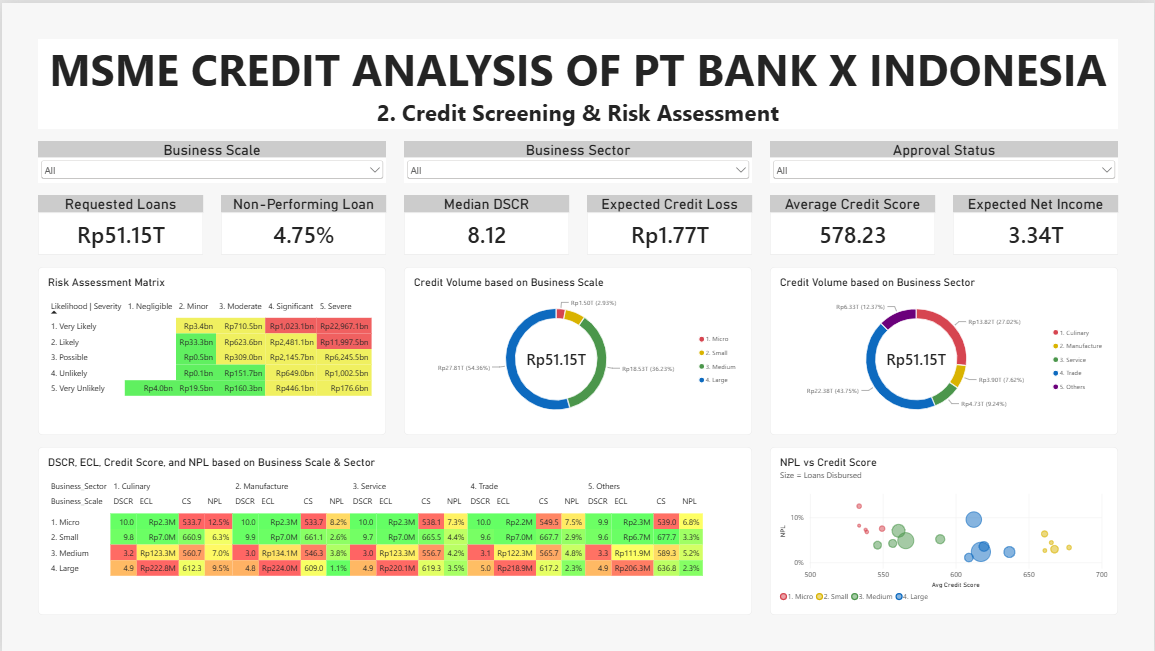

The page's visual inventory and layout, read from the dashboard file:
{"tool":"powerbi","page":{"name":"Page 2","canvas":[1920,1080],"ordinal":1},"visuals":[{"type":"textbox","box":[60,60,1800,150],"z":0},{"type":"slicer","title":"Business Scale","fields":{"Values":["MSME_credit_data_analyzed.Business_Scale"]},"box":[60,230,580,70],"z":1000},{"type":"slicer","title":"Business Sector","fields":{"Values":["MSME_credit_data_analyzed.Business_Sector"]},"box":[670,230,580,70],"z":2000},{"type":"cardVisual","title":"Requested Loans","fields":{"Data":["Sum(msme_credit_analysis new_msme_credit_joined.Loan_Ceiling)"]},"box":[60,320,275,100],"z":4000},{"type":"cardVisual","title":"Expected Credit Loss","fields":{"Data":["Sum(msme_credit_analysis new_msme_credit_joined.Expected_Credit_Loss)"]},"box":[974.4,320.3,275,100],"z":5000},{"type":"cardVisual","title":"Average Credit Score","fields":{"Data":["Avg(msme_credit_analysis new_msme_credit_joined.Credit_Score)"]},"box":[1281,320.3,275,100],"z":6000},{"type":"cardVisual","title":"Median DSCR","fields":{"Data":["Median(msme_credit_analysis new_msme_credit_joined.Debt_Service_Coverage_Ratio)"]},"box":[670,320.3,275,100],"z":7000},{"type":"pivotTable","title":"Risk Assessment Matrix","fields":{"Columns":["msme_credit_analysis new_msme_credit_joined.Severity"],"Rows":["msme_credit_analysis new_msme_credit_joined.Likelihood"],"Values":["Sum(msme_credit_analysis new_msme_credit_joined.Loan_Ceiling)"]},"box":[60,440,580,280],"z":8000},{"type":"cardVisual","title":"Non-Performing Loan","fields":{"Data":["msme_credit_analysis new_msme_credit_joined.NPL_new"]},"box":[365,320,275,100],"z":9000},{"type":"scatterChart","title":"NPL vs Credit Score","fields":{"Category":["msme_credit_analysis new_msme_credit_joined.Business_Sector"],"Series":["msme_credit_analysis new_msme_credit_joined.Business_Scale"],"Size":["Sum(msme_credit_analysis new_msme_credit_joined.Loan_Ceiling)"],"X":["Avg(msme_credit_analysis new_msme_credit_joined.Credit_Score)"],"Y":["msme_credit_analysis new_msme_credit_joined.NPL_new"]},"box":[1280,740,580,280],"z":10000},{"type":"cardVisual","title":"Expected Net Income","fields":{"Data":["msme_credit_analysis new_msme_credit_joined.ENI"]},"box":[1585,320,275,100],"z":11000},{"type":"pivotTable","title":"DSCR, ECL, Credit Score, and NPL based on Business Scale & Sector","fields":{"Columns":["msme_credit_analysis new_msme_credit_joined.Business_Sector"],"Rows":["msme_credit_analysis new_msme_credit_joined.Business_Scale"],"Values":["Median(msme_credit_analysis new_msme_credit_joined.Debt_Service_Coverage_Ratio)","Avg(msme_credit_analysis new_msme_credit_joined.Expected_Credit_Loss)","Avg(msme_credit_analysis new_msme_credit_joined.Credit_Score)","msme_credit_analysis new_msme_credit_joined.NPL_new"]},"box":[60,740,1190,280],"z":12000},{"type":"donutChart","title":"Credit Volume based on Business Scale","fields":{"Category":["msme_credit_analysis new_msme_credit_joined.Business_Scale"],"Y":["Sum(msme_credit_analysis new_msme_credit_joined.Loan_Ceiling)"]},"box":[670,440,580,280],"z":13000},{"type":"donutChart","title":"Credit Volume based on Business Sector","fields":{"Category":["msme_credit_analysis new_msme_credit_joined.Business_Sector"],"Y":["Sum(msme_credit_analysis new_msme_credit_joined.Loan_Ceiling)"]},"box":[1280,440,580,280],"z":14000},{"type":"slicer","title":"Approval Status","fields":{"Values":["msme_credit_analysis new_msme_credit_joined.Approval_Status"]},"box":[1280,230,580,70],"z":15000}]}

Visuals, with their boxes in screenshot pixels (x1, y1, x2, y2), scaled from the page's 1920x1080 canvas onto the 1155x651 screenshot:
textbox: {"x1": 36, "y1": 36, "x2": 1119, "y2": 127}
"Business Scale" slicer: {"x1": 36, "y1": 139, "x2": 385, "y2": 181}
"Business Sector" slicer: {"x1": 403, "y1": 139, "x2": 752, "y2": 181}
"Requested Loans" cardVisual: {"x1": 36, "y1": 193, "x2": 202, "y2": 253}
"Expected Credit Loss" cardVisual: {"x1": 586, "y1": 193, "x2": 752, "y2": 253}
"Average Credit Score" cardVisual: {"x1": 771, "y1": 193, "x2": 936, "y2": 253}
"Median DSCR" cardVisual: {"x1": 403, "y1": 193, "x2": 568, "y2": 253}
"Risk Assessment Matrix" pivotTable: {"x1": 36, "y1": 265, "x2": 385, "y2": 434}
"Non-Performing Loan" cardVisual: {"x1": 220, "y1": 193, "x2": 385, "y2": 253}
"NPL vs Credit Score" scatterChart: {"x1": 770, "y1": 446, "x2": 1119, "y2": 615}
"Expected Net Income" cardVisual: {"x1": 953, "y1": 193, "x2": 1119, "y2": 253}
"DSCR, ECL, Credit Score, and NPL based on Business Scale & Sector" pivotTable: {"x1": 36, "y1": 446, "x2": 752, "y2": 615}
"Credit Volume based on Business Scale" donutChart: {"x1": 403, "y1": 265, "x2": 752, "y2": 434}
"Credit Volume based on Business Sector" donutChart: {"x1": 770, "y1": 265, "x2": 1119, "y2": 434}
"Approval Status" slicer: {"x1": 770, "y1": 139, "x2": 1119, "y2": 181}
